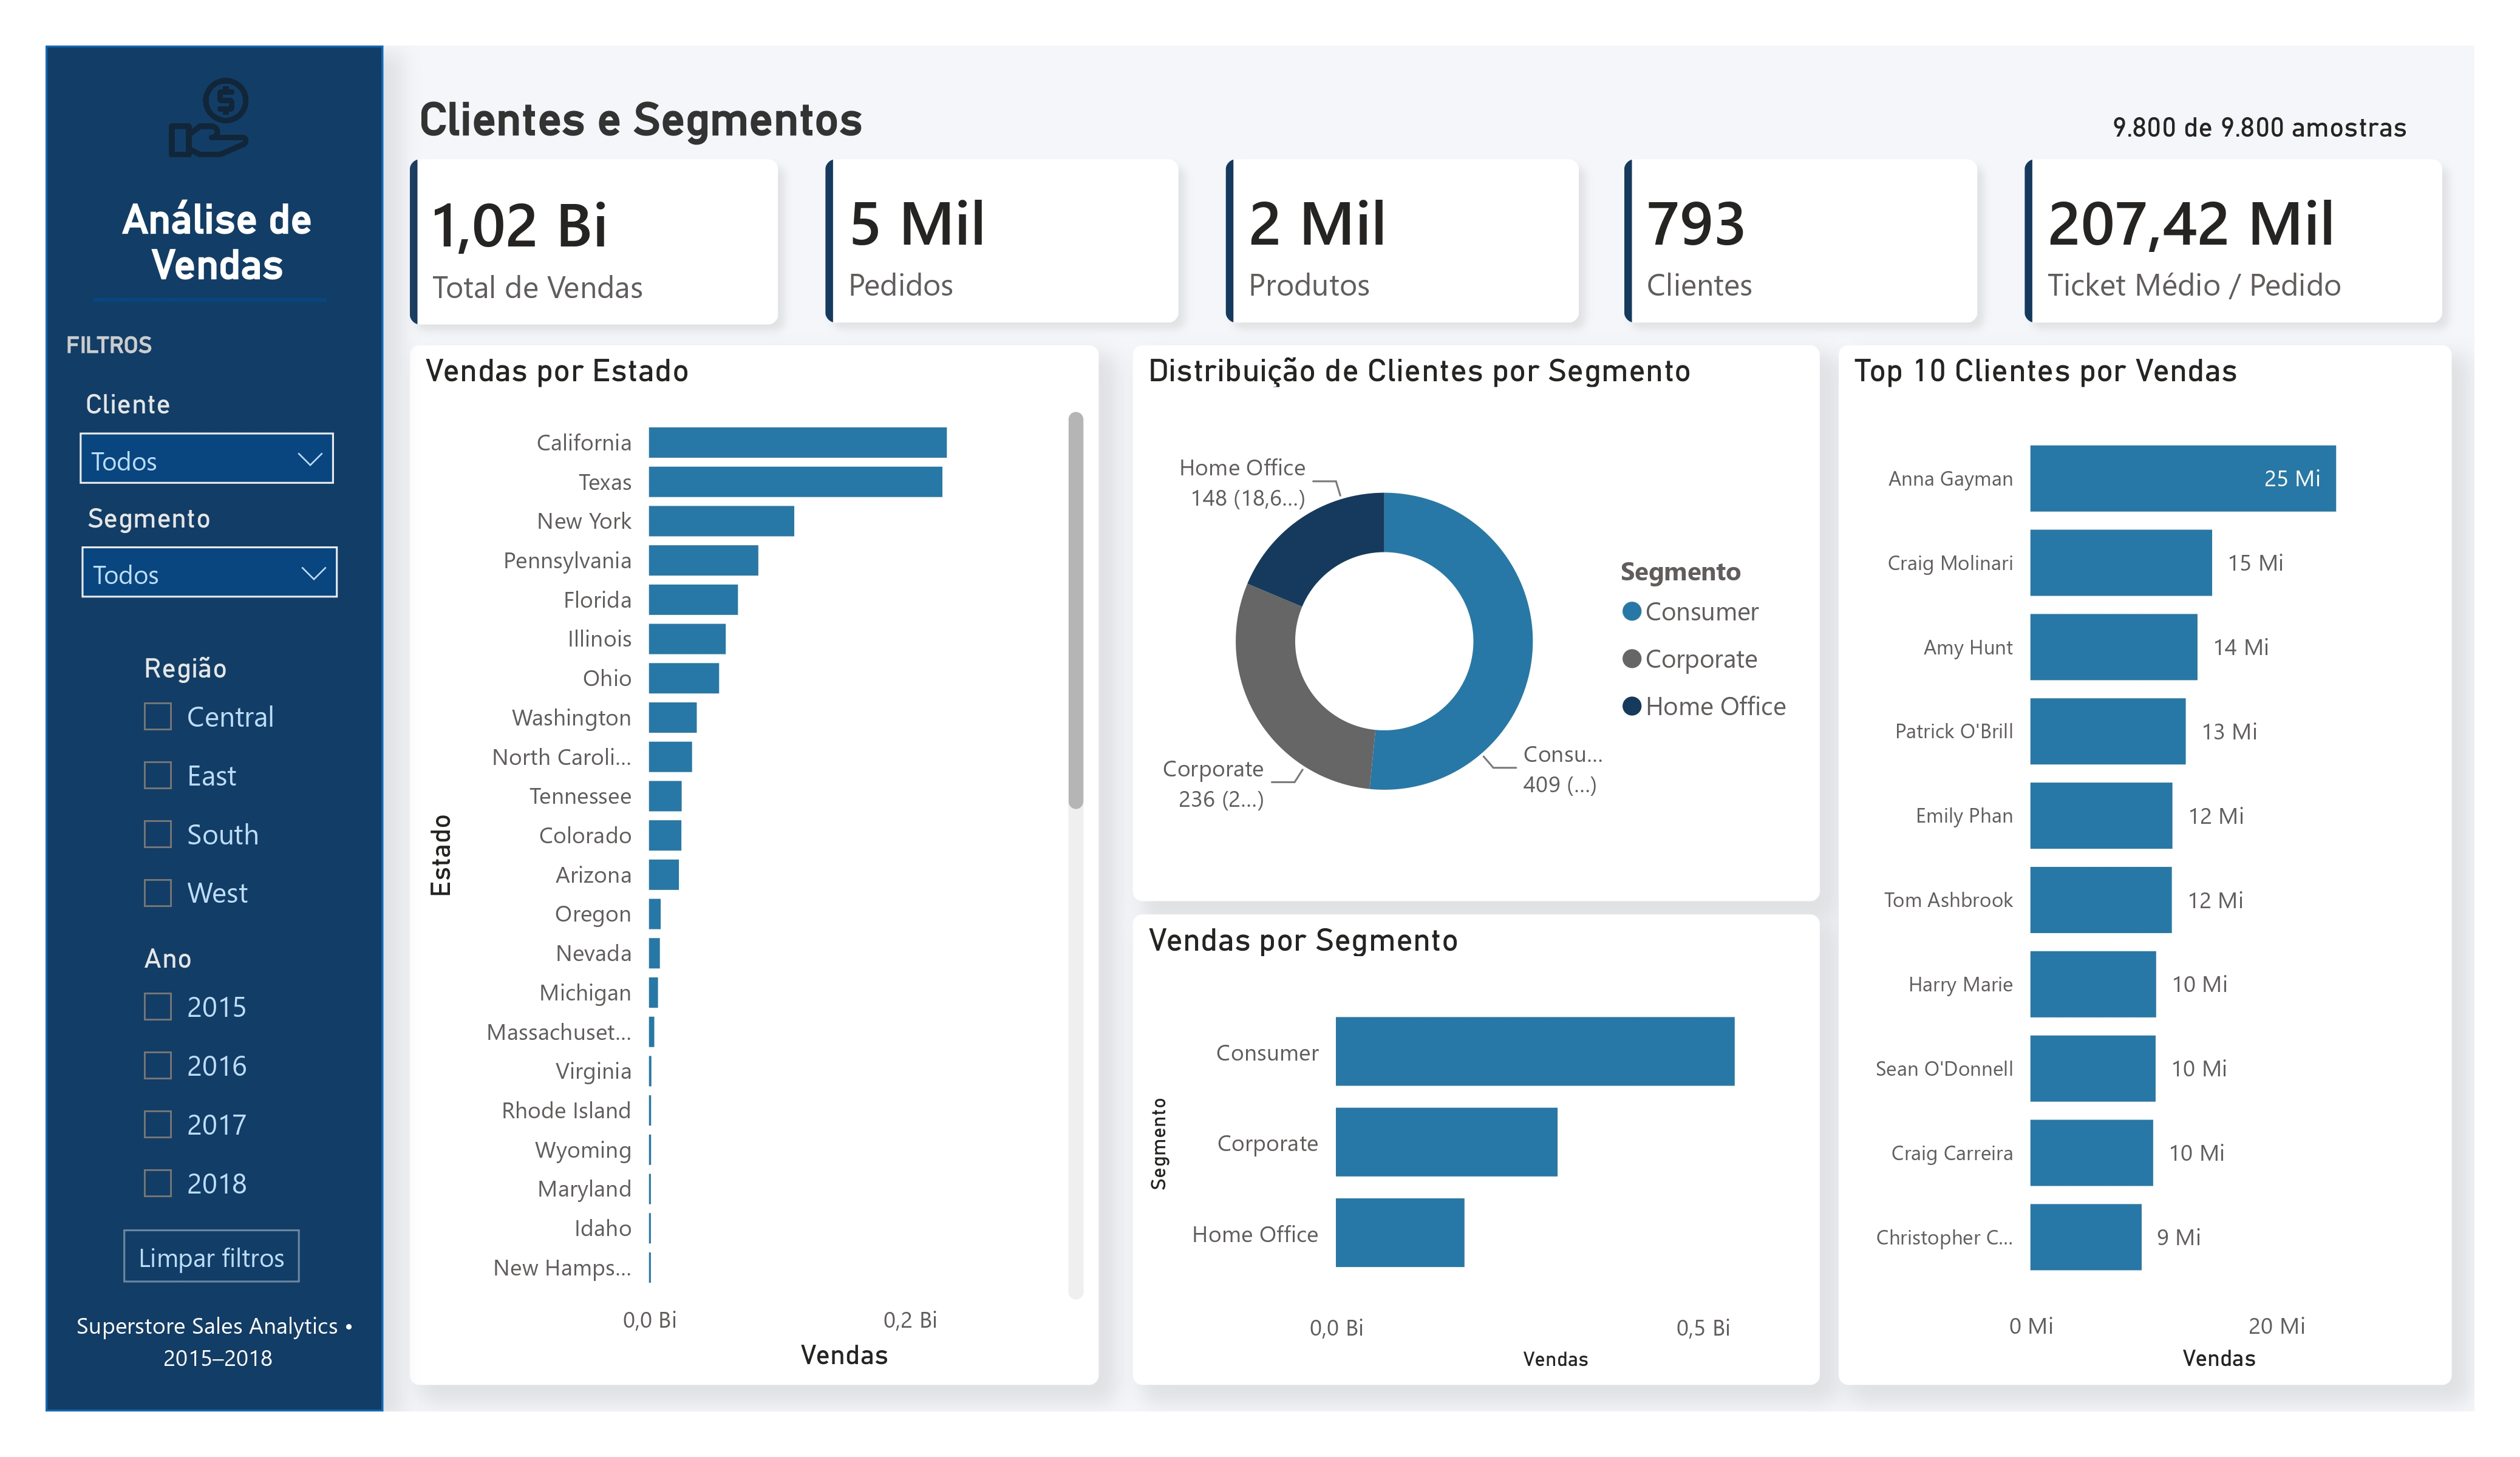

This screenshot's page, from the dashboard's own definition file:
{"tool":"powerbi","page":{"name":"Clientes e Segmentos","canvas":[1280,720],"ordinal":1},"visuals":[{"type":"actionButton","box":[0,0,100,40],"z":0},{"type":"cardVisual","fields":{"Data":["Sum(superstore_sales.Vendas)"]},"box":[175,42.7,228.1,120.8],"z":1000},{"type":"cardVisual","fields":{"Data":["superstore_sales.Pedidos"]},"box":[393.9,42.7,220,120],"z":2000},{"type":"cardVisual","fields":{"Data":["superstore_sales.Clientes_Unico"]},"box":[815.3,42.7,220,120],"z":3000},{"type":"cardVisual","fields":{"Data":["superstore_sales.Produtos_Unico"]},"box":[604.6,42.7,220,120],"z":4000},{"type":"cardVisual","fields":{"Data":["superstore_sales.Ticket_Médio"]},"box":[1025.8,42.7,254.2,119.8],"z":5000},{"type":"barChart","fields":{"Y":["Sum(superstore_sales.Vendas)"],"Category":["superstore_sales.Estado"]},"box":[191.7,158.3,363.5,547.9],"z":7000},{"type":"donutChart","title":"Distribuição de Clientes por Segmento","fields":{"Category":["superstore_sales.Segmento"],"Y":["superstore_sales.Clientes_Unico"]},"box":[572.9,158.3,362.5,292.7],"z":7500},{"type":"clusteredBarChart","fields":{"Y":["Sum(superstore_sales.Vendas)"],"Category":["superstore_sales.Segmento"]},"box":[572.9,458.3,362.5,247.9],"z":8000},{"type":"clusteredBarChart","title":"Top 10 Clientes por Vendas","fields":{"Y":["Sum(superstore_sales.Vendas)"],"Category":["superstore_sales.Nome_Cliente"]},"box":[944.8,158.3,322.9,547.9],"z":9000},{"type":"shape","title":"Visão Geral","box":[0,0,178.2,719.5],"z":10000},{"type":"slicer","fields":{"Values":["superstore_sales.Região"]},"box":[39.5,314.6,100.4,168],"z":11000},{"type":"slicer","fields":{"Values":["superstore_sales.Segmento"]},"box":[9,235.7,154.5,78.9],"z":12000},{"type":"textbox","box":[1,660.4,180.2,54.2],"z":13000},{"type":"textbox","box":[6.2,74,168.8,68.8],"z":14000},{"type":"shape","box":[25,103.1,122.9,61.5],"z":15000},{"type":"image","box":[49,12.5,74,50],"z":16000},{"type":"textbox","box":[5.6,143.2,148.9,29.3],"z":17000},{"type":"slicer","fields":{"Values":["superstore_sales.Nome_Cliente"]},"box":[7.9,175.9,154.5,78.9],"z":18000},{"type":"slicer","fields":{"Values":["superstore_sales.Ano_Realizado"]},"box":[39.5,468,100.4,168],"z":19000},{"type":"textbox","box":[191.7,19.8,312.5,380.2],"z":20000},{"type":"actionButton","box":[41,624,92.7,28.1],"z":21000},{"type":"cardVisual","fields":{"Data":["superstore_sales.Indicador de Amostras"]},"box":[1060.4,0,219.8,108.3],"z":22000}]}

Visuals, with their boxes on the page's 1280x720 design canvas (x1, y1, x2, y2). These are canvas units, not pixel positions in the 2520x1457 screenshot, which may show the page scaled, cropped or inside an application window:
actionButton: bbox=(0, 0, 100, 40)
cardVisual - Sum(superstore_sales.Vendas): bbox=(175, 43, 403, 164)
cardVisual - superstore_sales.Pedidos: bbox=(394, 43, 614, 163)
cardVisual - superstore_sales.Clientes_Unico: bbox=(815, 43, 1035, 163)
cardVisual - superstore_sales.Produtos_Unico: bbox=(605, 43, 825, 163)
cardVisual - superstore_sales.Ticket_Médio: bbox=(1026, 43, 1280, 162)
barChart - Sum(superstore_sales.Vendas) x superstore_sales.Estado: bbox=(192, 158, 555, 706)
"Distribuição de Clientes por Segmento" donutChart: bbox=(573, 158, 935, 451)
clusteredBarChart - Sum(superstore_sales.Vendas) x superstore_sales.Segmento: bbox=(573, 458, 935, 706)
"Top 10 Clientes por Vendas" clusteredBarChart: bbox=(945, 158, 1268, 706)
"Visão Geral" shape: bbox=(0, 0, 178, 720)
slicer - superstore_sales.Região: bbox=(40, 315, 140, 483)
slicer - superstore_sales.Segmento: bbox=(9, 236, 164, 315)
textbox: bbox=(1, 660, 181, 715)
textbox: bbox=(6, 74, 175, 143)
shape: bbox=(25, 103, 148, 165)
image: bbox=(49, 12, 123, 62)
textbox: bbox=(6, 143, 154, 172)
slicer - superstore_sales.Nome_Cliente: bbox=(8, 176, 162, 255)
slicer - superstore_sales.Ano_Realizado: bbox=(40, 468, 140, 636)
textbox: bbox=(192, 20, 504, 400)
actionButton: bbox=(41, 624, 134, 652)
cardVisual - superstore_sales.Indicador de Amostras: bbox=(1060, 0, 1280, 108)
